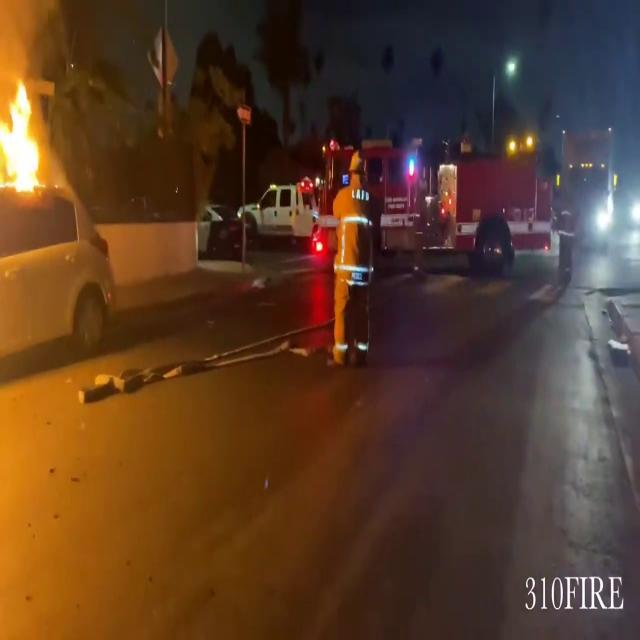Fire: (0, 67, 54, 194)
